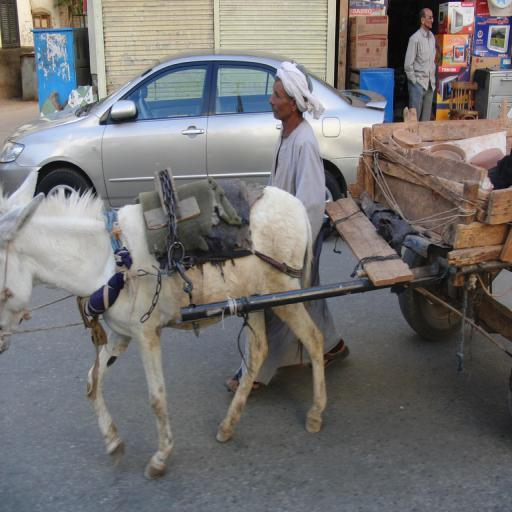horse: (0, 167, 327, 481)
